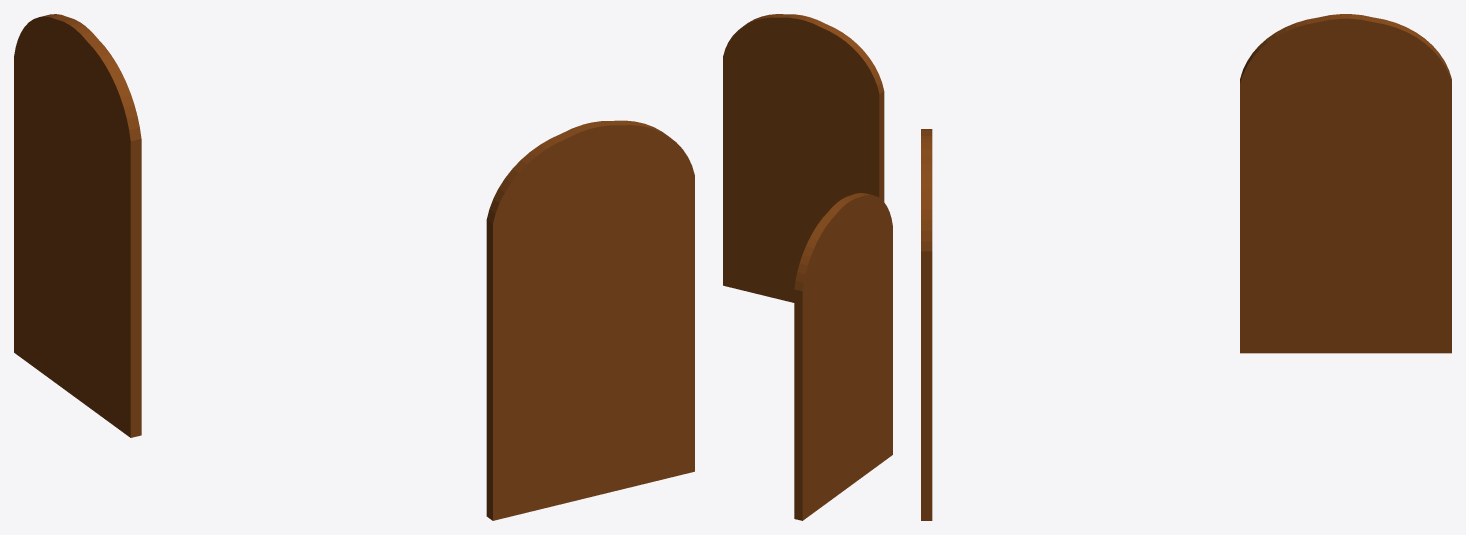
The model's file is hauntedcastle_passable.glb.
3 views of the same model, side by side, from view 1: azimuth 30°, elevation 25°; view 2: azimuth 150°, elevation 25°; view 3: azimuth 270°, elevation 25° (orthographic). The views are drawn at different scales.
Visible parts, largest first — view 1: Level1.Door.002, Level1.Door; view 2: Level1.Door.002, Level1.Door; view 3: Level1.Door, Level1.Door.002.
Part boxes in pixels (box(x1,y1,x2,y2)): Level1.Door.002: box(486, 120, 694, 520); Level1.Door: box(14, 14, 141, 437); Level1.Door.002: box(723, 14, 884, 302); Level1.Door: box(794, 193, 892, 520); Level1.Door: box(1240, 14, 1451, 353); Level1.Door.002: box(921, 129, 932, 520).
Size of the model in its own units: 3.95 by 3.58 by 5.15.
2 materials, 2 textured.
